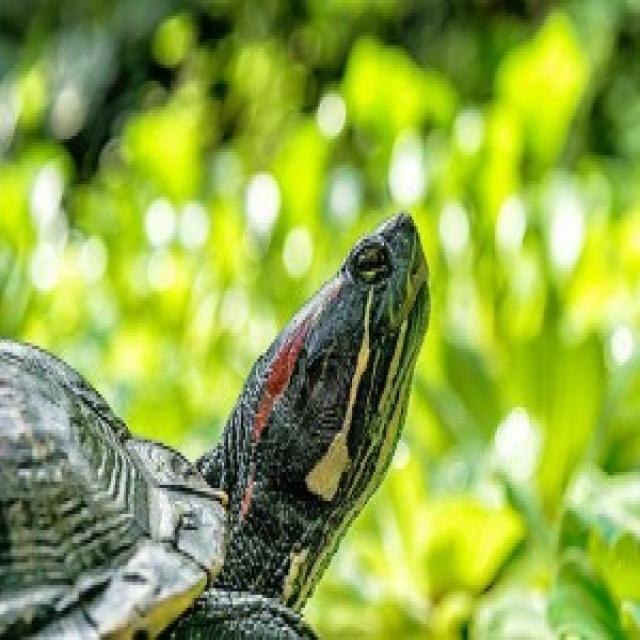Sea turtle: (0, 187, 447, 640)
